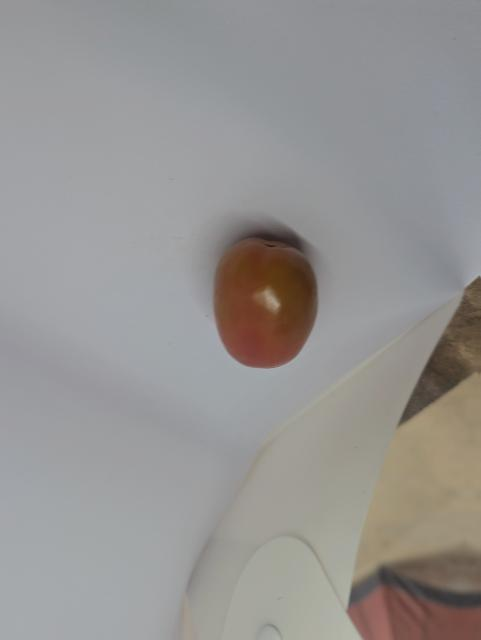turning: (209, 233, 321, 374)
